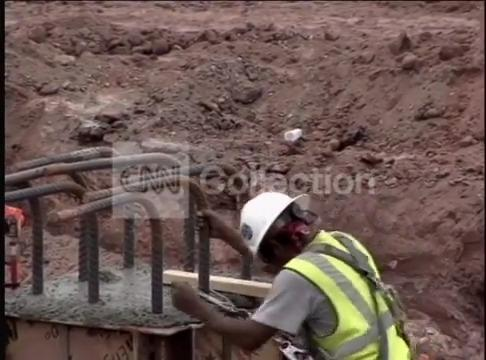Helmet: (238, 183, 304, 250)
Person: (138, 167, 410, 360)
Safety Vest: (295, 264, 391, 360)
bare-arms: (162, 278, 198, 319), (192, 207, 228, 239)
